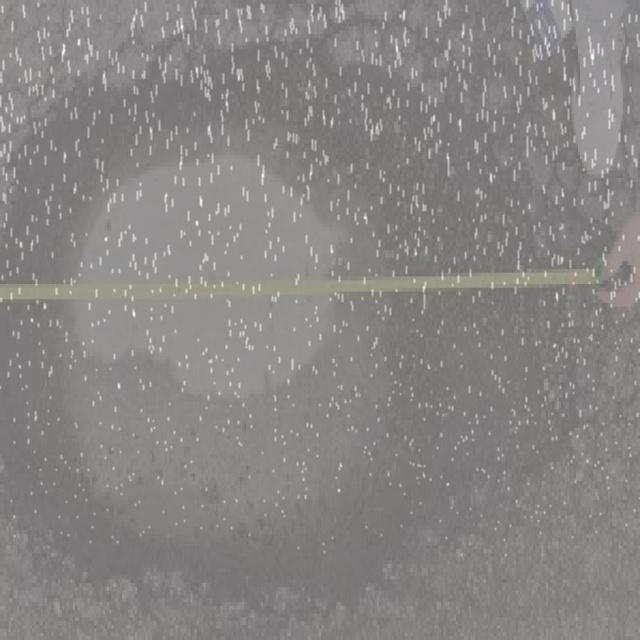Pothole: (4, 25, 640, 594)
